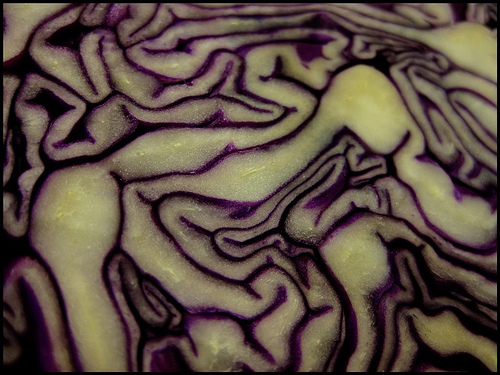cabbage: (0, 0, 499, 373)
